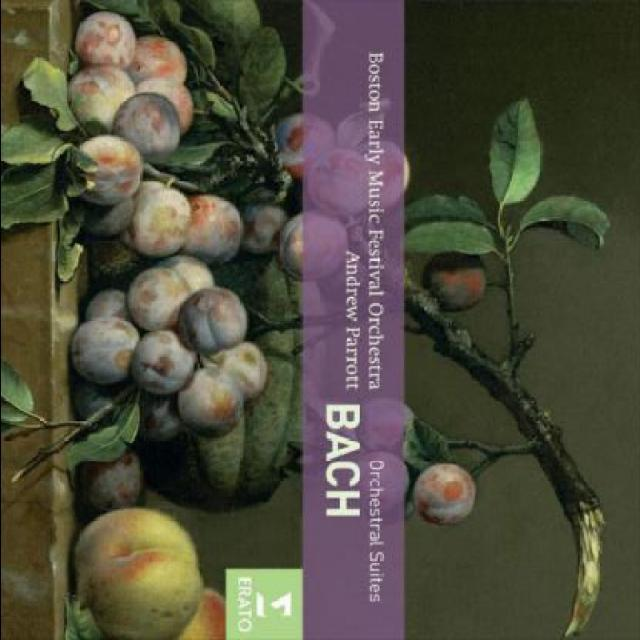Peach: (57, 17, 411, 445), (70, 506, 204, 640), (352, 398, 417, 460), (348, 453, 410, 518), (426, 249, 486, 313), (78, 449, 142, 508), (414, 462, 471, 524), (180, 593, 223, 639)
